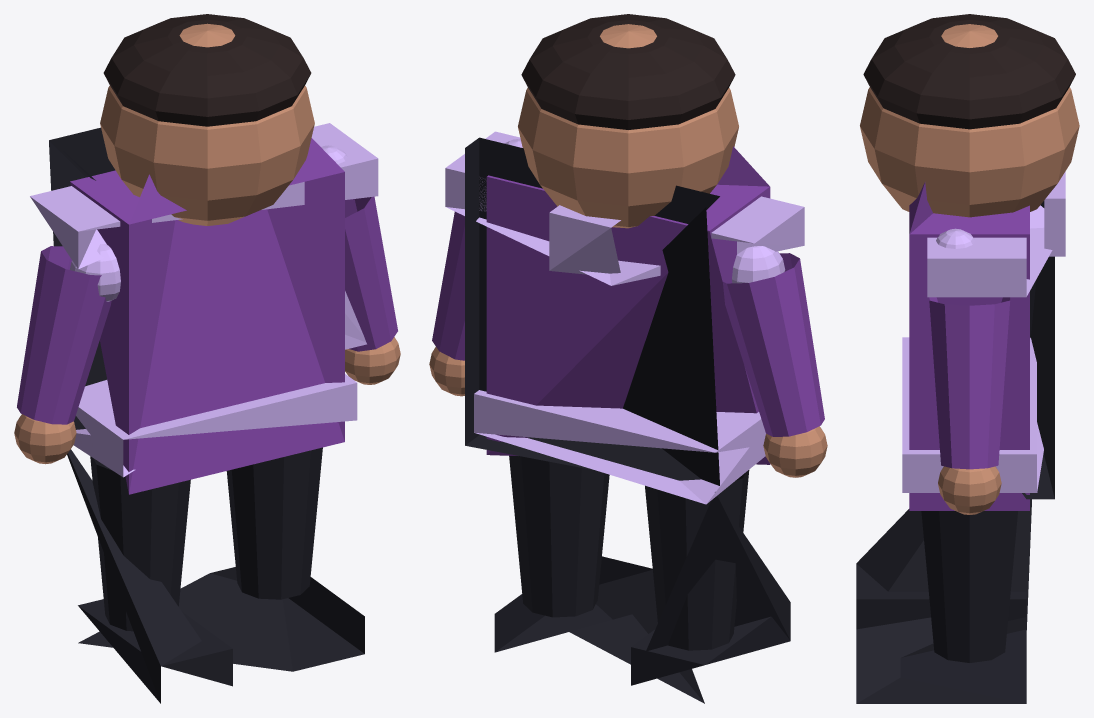
File: Summoner_Male.obj
3 renders of one model, left to right at view 1: azimuth 30°, elevation 25°; view 2: azimuth 150°, elevation 25°; view 3: azimuth 270°, elevation 25°, orthographic. The views are drawn at different scales.
Visible parts, largest first — view 1: Summoner_Male; view 2: Summoner_Male; view 3: Summoner_Male.
Part boxes in pixels (x1,y1,x2,y2): Summoner_Male: (14,14,400,703); Summoner_Male: (429,14,827,703); Summoner_Male: (856,14,1079,703).
Size of the model in its own units: 1.26 by 1.93 by 0.63.
